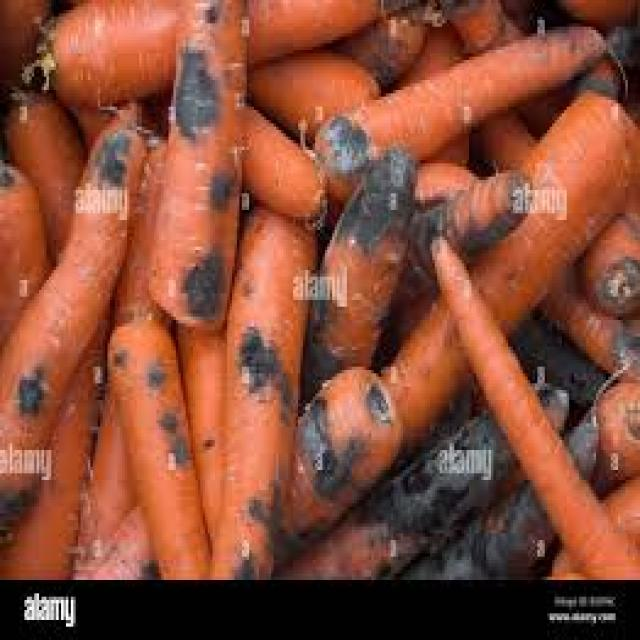Stale_Carrot: (209, 194, 311, 584), (149, 0, 248, 335), (107, 308, 219, 586), (301, 153, 410, 405), (281, 369, 403, 567)
